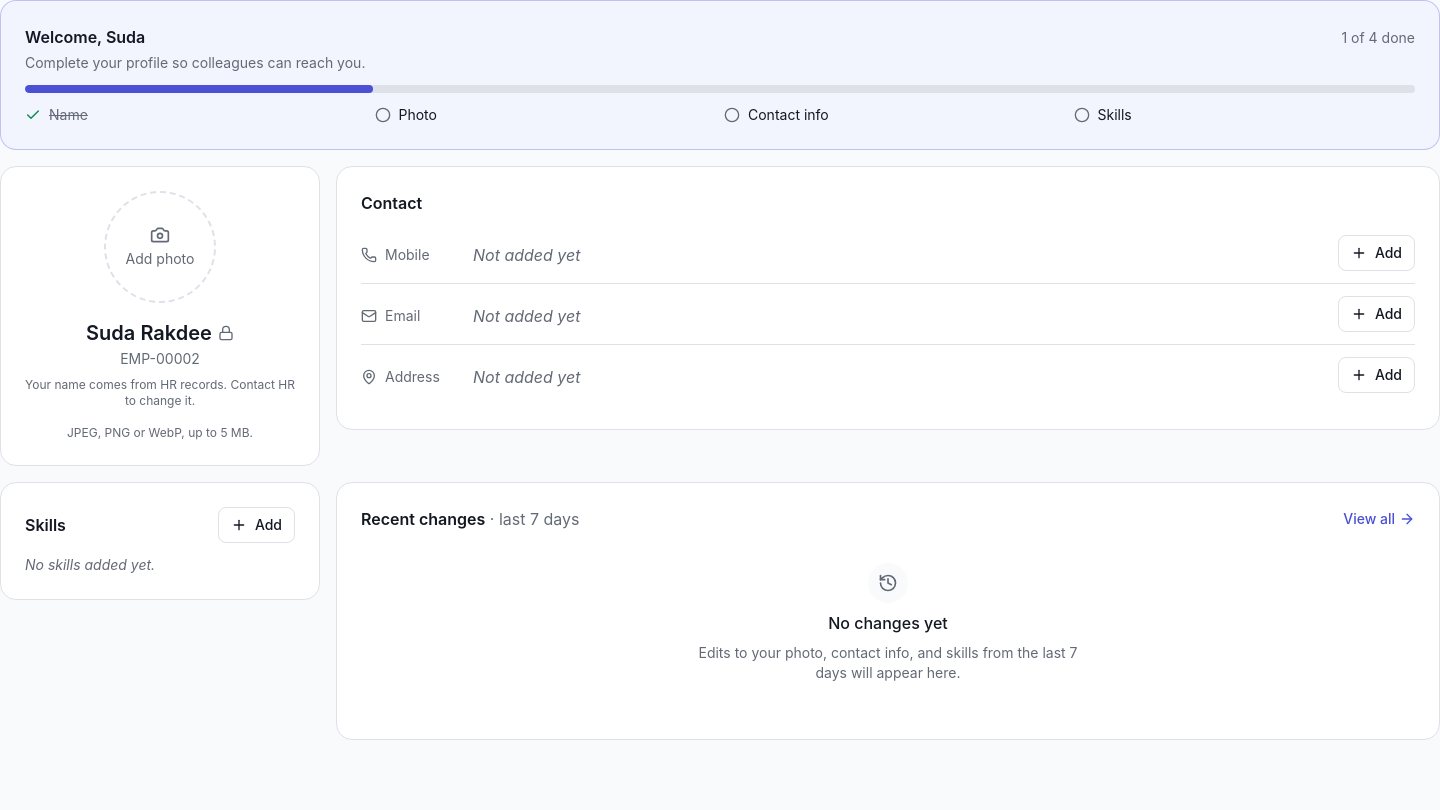
Test case: ProfilePage › saves one contact field with If-Match and shows client-side errors first
Later steps or results of the test are not shown.
Click the button with aria-label "Add mobile" at (1376, 253), box [1338, 235, 1415, 271]
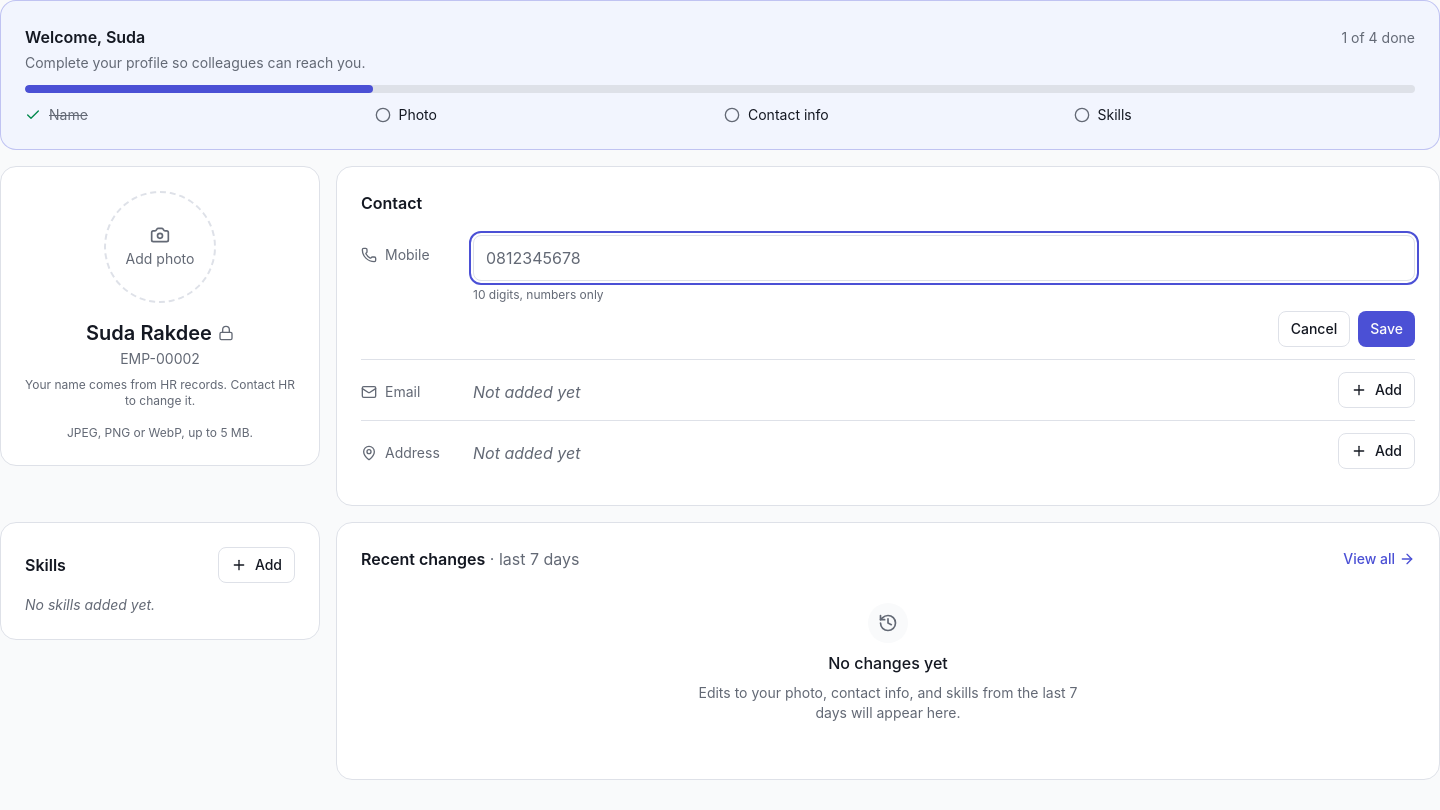
Type "12ab" into the field named "Mobile" at (944, 258), box [473, 235, 1415, 281]
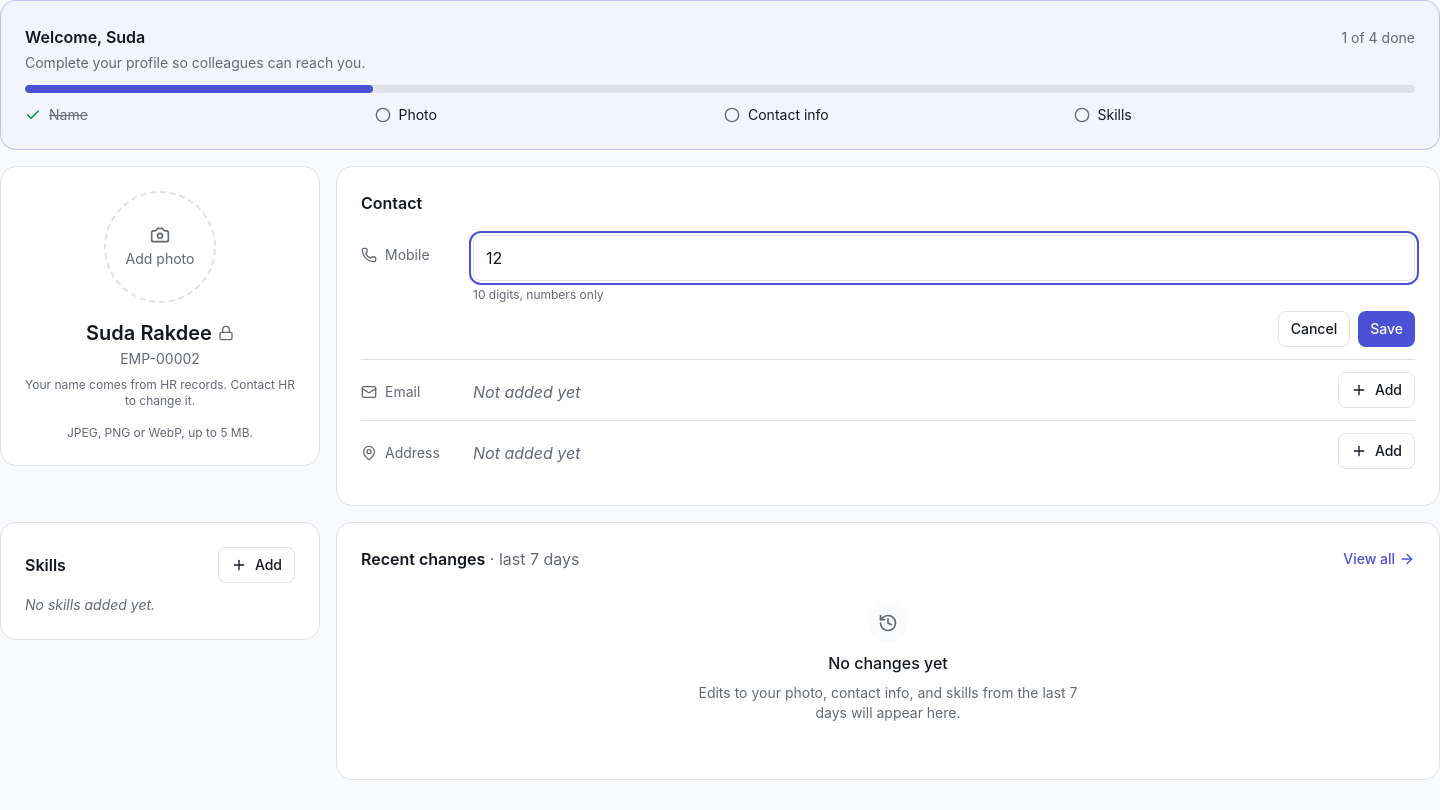
Check: the field named "Mobile" holds "12", box [473, 235, 1415, 281]
Click the button "Save" at (1387, 329), box [1358, 311, 1415, 347]
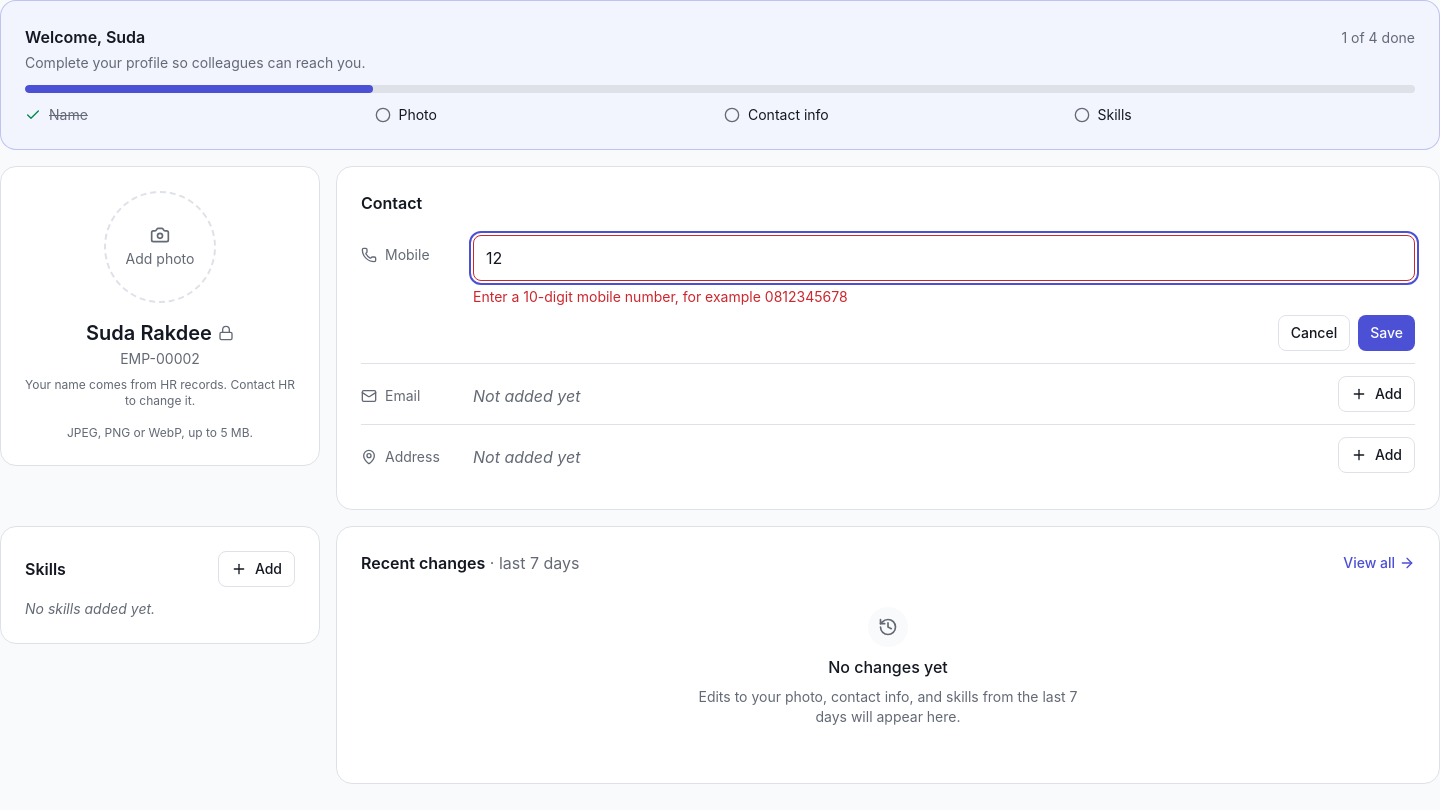
Check: the text "Enter a 10-digit mobile number, for example 0812345678" is shown, box [473, 288, 848, 305]
Replace the text in the field named "Mobile" with "081-234-5678 99" at (944, 258), box [473, 235, 1415, 281]
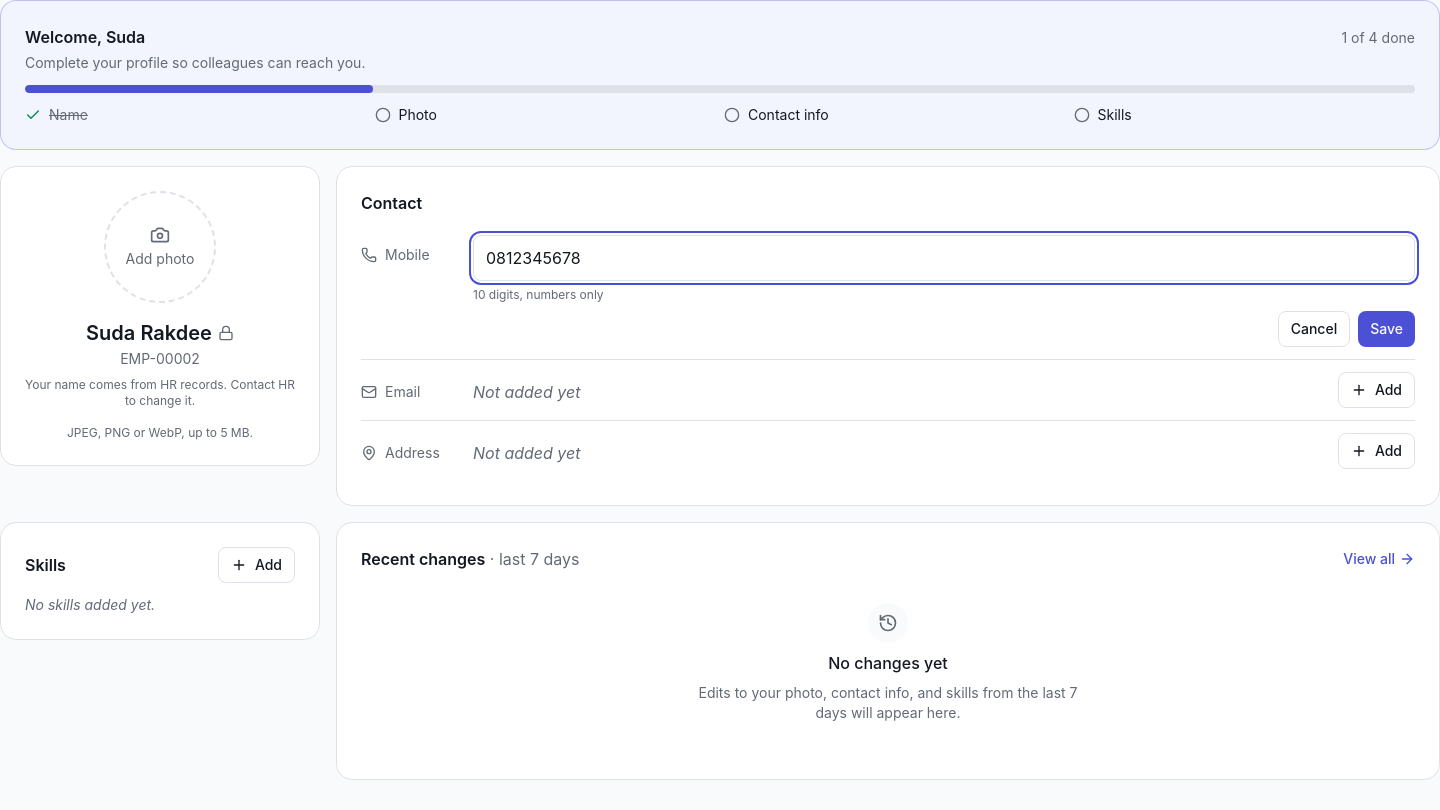
Check: the field named "Mobile" holds "0812345678", box [473, 235, 1415, 281]
